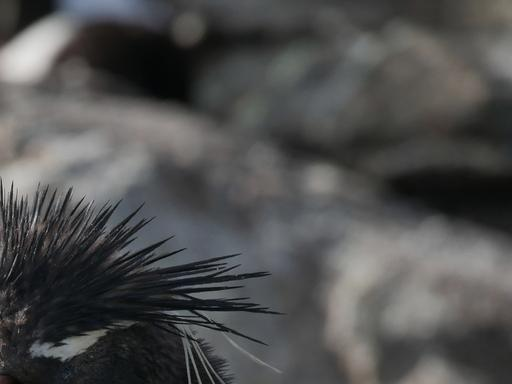Southern Rockhopper Penguin: (0, 118, 473, 384)
